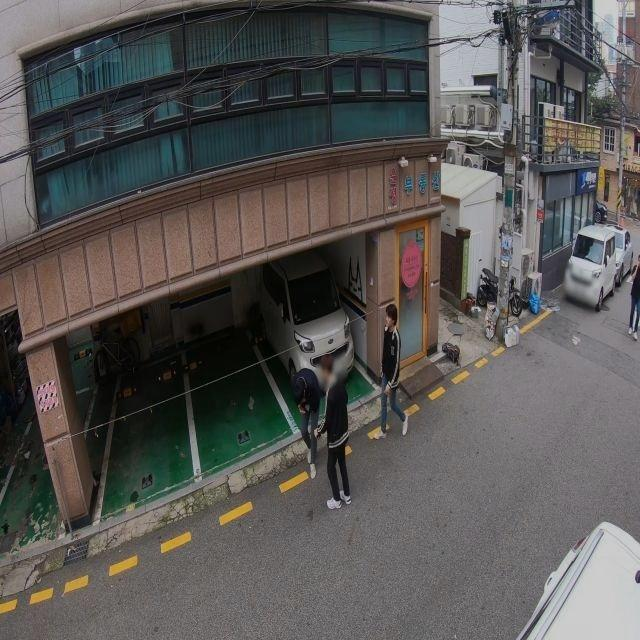fight: (287, 355, 352, 510)
non-fight: (377, 306, 405, 437), (625, 237, 639, 337)
